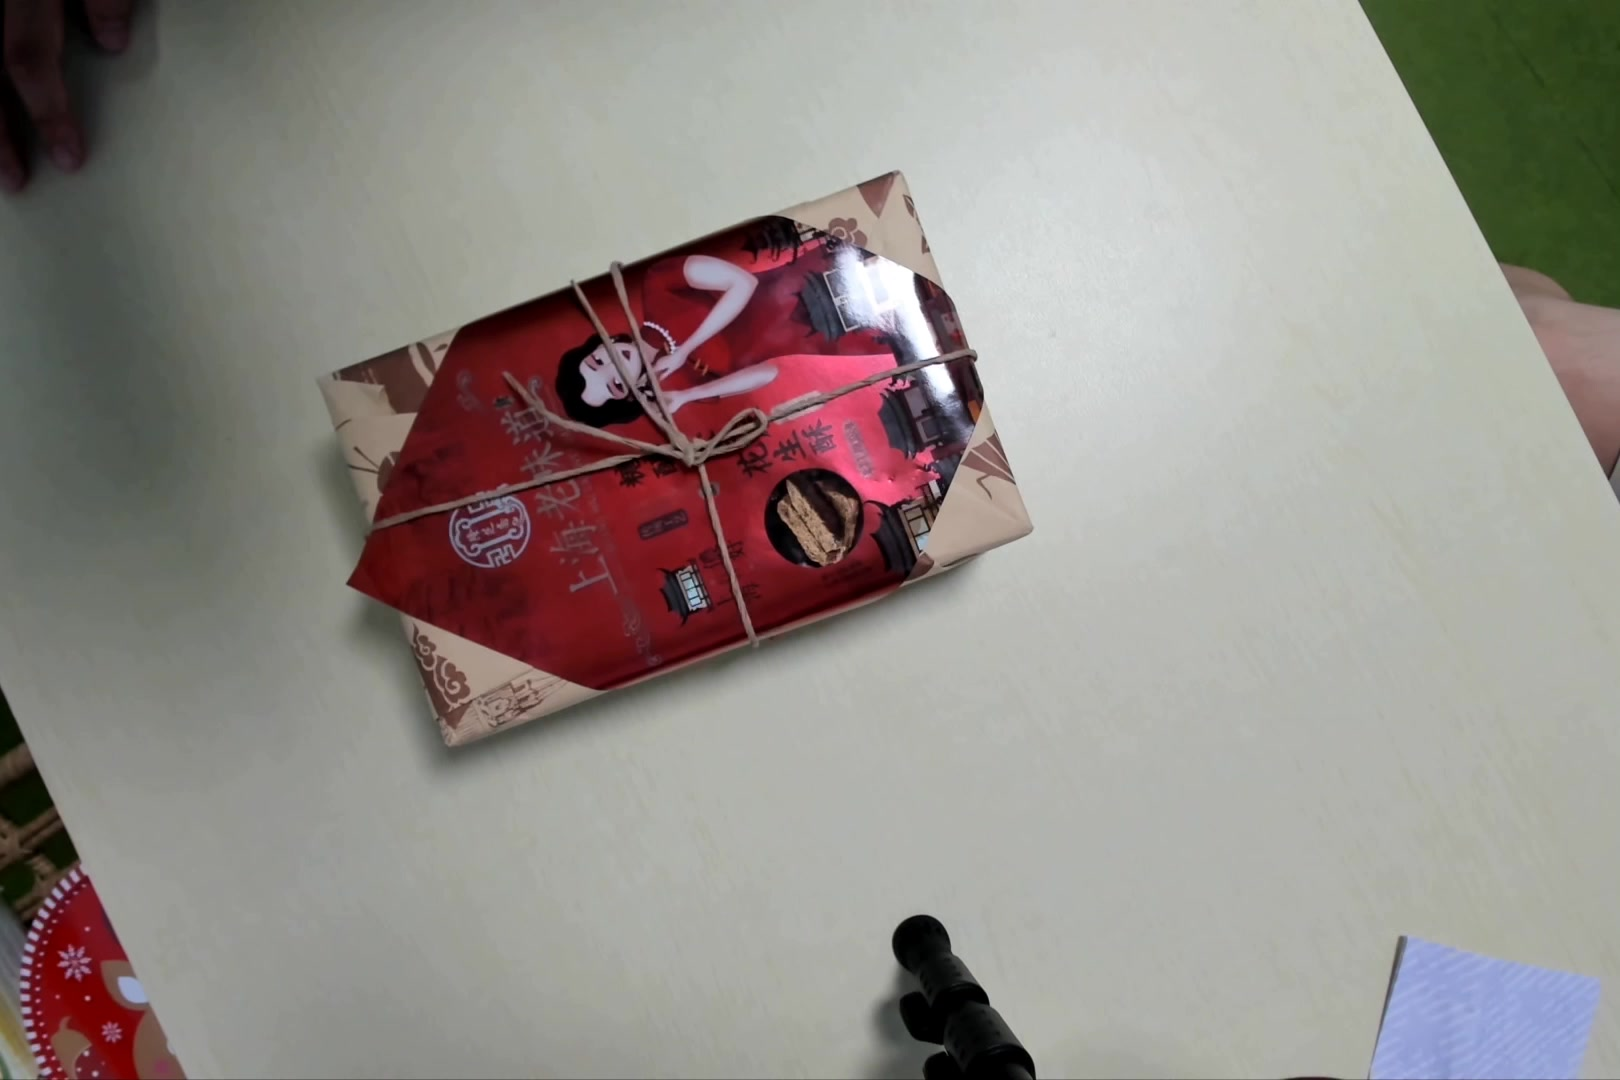BiscuitsCrackersCookies_400-499g_NonHalal_NonHealthy: (318, 141, 1043, 773)
